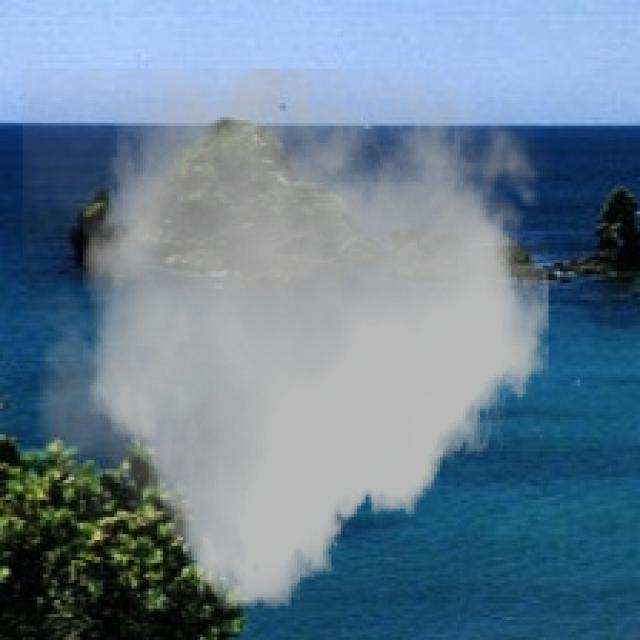Smoke: (22, 69, 558, 608)
